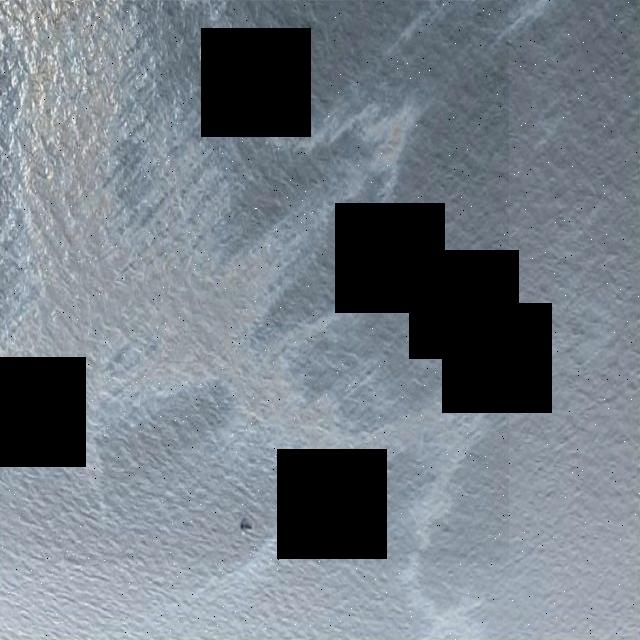oil spill: (0, 2, 509, 563)
